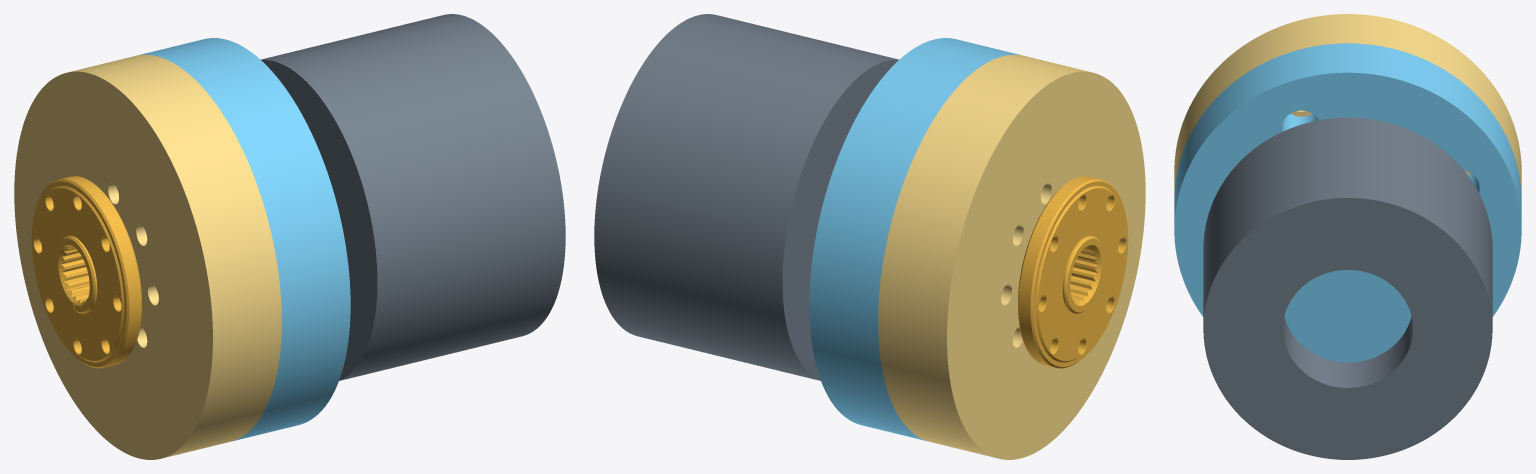
File: FX103_output_adapter_P0.3_review.glb
The picture shows the model from 3 angles, left to right: view 1: azimuth 30°, elevation 25°; view 2: azimuth 150°, elevation 25°; view 3: azimuth 270°, elevation 25°; orthographic projection. The views are drawn at different scales.
Parts seen in each view (by area): view 1: RULAND_MJC33_15_A_CATALOG_ENVELOPE_NOT_SELECTED, FX103_C01_P02_HORN_FLANGE_CANDIDATE, FX103_C02_P01_SHAFT_FLANGE_CANDIDATE, HN12_N101_EXACT_VENDOR_GEOMETRY; view 2: RULAND_MJC33_15_A_CATALOG_ENVELOPE_NOT_SELECTED, FX103_C01_P02_HORN_FLANGE_CANDIDATE, FX103_C02_P01_SHAFT_FLANGE_CANDIDATE, HN12_N101_EXACT_VENDOR_GEOMETRY; view 3: RULAND_MJC33_15_A_CATALOG_ENVELOPE_NOT_SELECTED, FX103_C02_P01_SHAFT_FLANGE_CANDIDATE, FX103_C01_P02_HORN_FLANGE_CANDIDATE.
Boxes of the visible parts, x1=… form: RULAND_MJC33_15_A_CATALOG_ENVELOPE_NOT_SELECTED: x1=261, y1=14, x2=565, y2=380; FX103_C01_P02_HORN_FLANGE_CANDIDATE: x1=14, y1=54, x2=281, y2=459; FX103_C02_P01_SHAFT_FLANGE_CANDIDATE: x1=139, y1=38, x2=350, y2=441; HN12_N101_EXACT_VENDOR_GEOMETRY: x1=31, y1=176, x2=141, y2=368; RULAND_MJC33_15_A_CATALOG_ENVELOPE_NOT_SELECTED: x1=594, y1=14, x2=898, y2=380; FX103_C01_P02_HORN_FLANGE_CANDIDATE: x1=878, y1=54, x2=1145, y2=459; FX103_C02_P01_SHAFT_FLANGE_CANDIDATE: x1=809, y1=38, x2=1020, y2=441; HN12_N101_EXACT_VENDOR_GEOMETRY: x1=1018, y1=176, x2=1128, y2=368; RULAND_MJC33_15_A_CATALOG_ENVELOPE_NOT_SELECTED: x1=1203, y1=117, x2=1492, y2=459; FX103_C02_P01_SHAFT_FLANGE_CANDIDATE: x1=1174, y1=43, x2=1521, y2=362; FX103_C01_P02_HORN_FLANGE_CANDIDATE: x1=1174, y1=14, x2=1521, y2=193.
Size of the model in its own units: 47.52 by 40 by 39.99.
